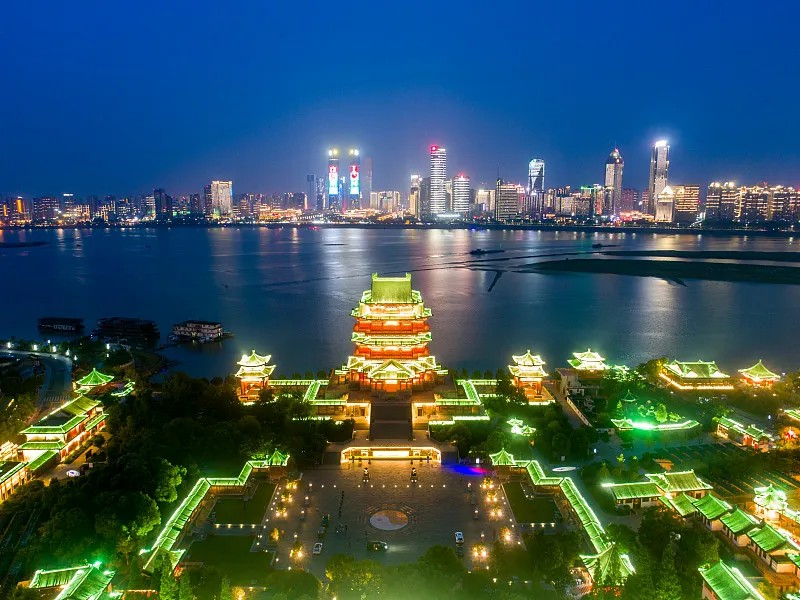Teng: (333, 272, 449, 387)
